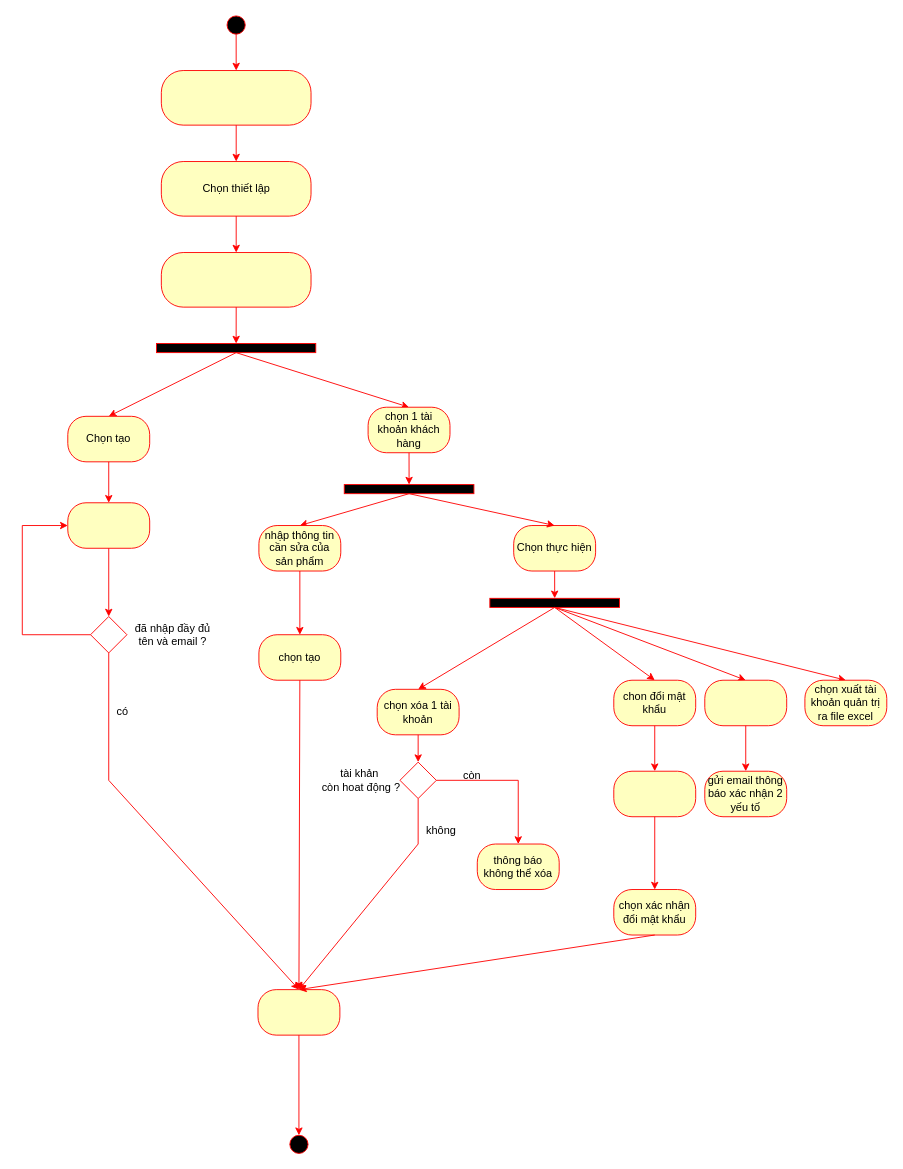
Image size: 903x1169. Some labels were removed from this diagram. Each missing label, with the centre of its shape:
chọn bảo mật 2 yếu tố: (x=745, y=702)
Cập nhật vào cơ sở dữ liệu: (x=298, y=1012)
Hệ thống hiện tất cả các tài khoản quản trị: (x=235, y=279)
Nhập các thông tin tài khoản: (x=108, y=525)
nhập mật khẩu mới: (x=654, y=793)
Đăng nhập với quyền quản trị: (x=235, y=97)
